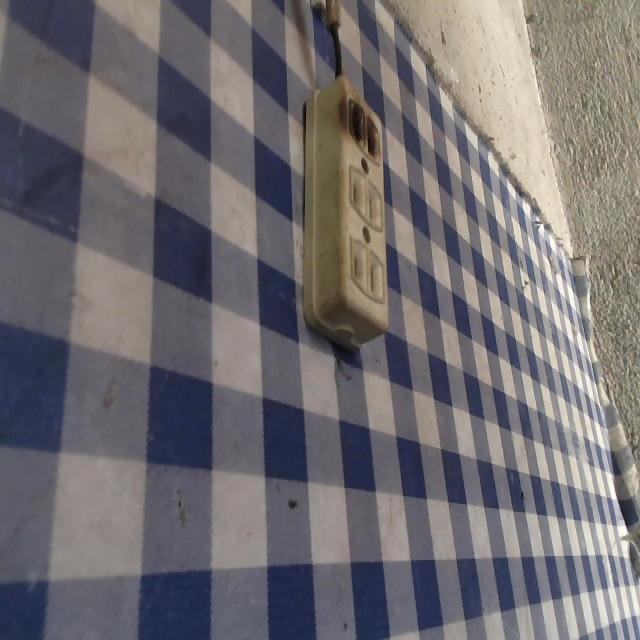-: (340, 93, 388, 168)
